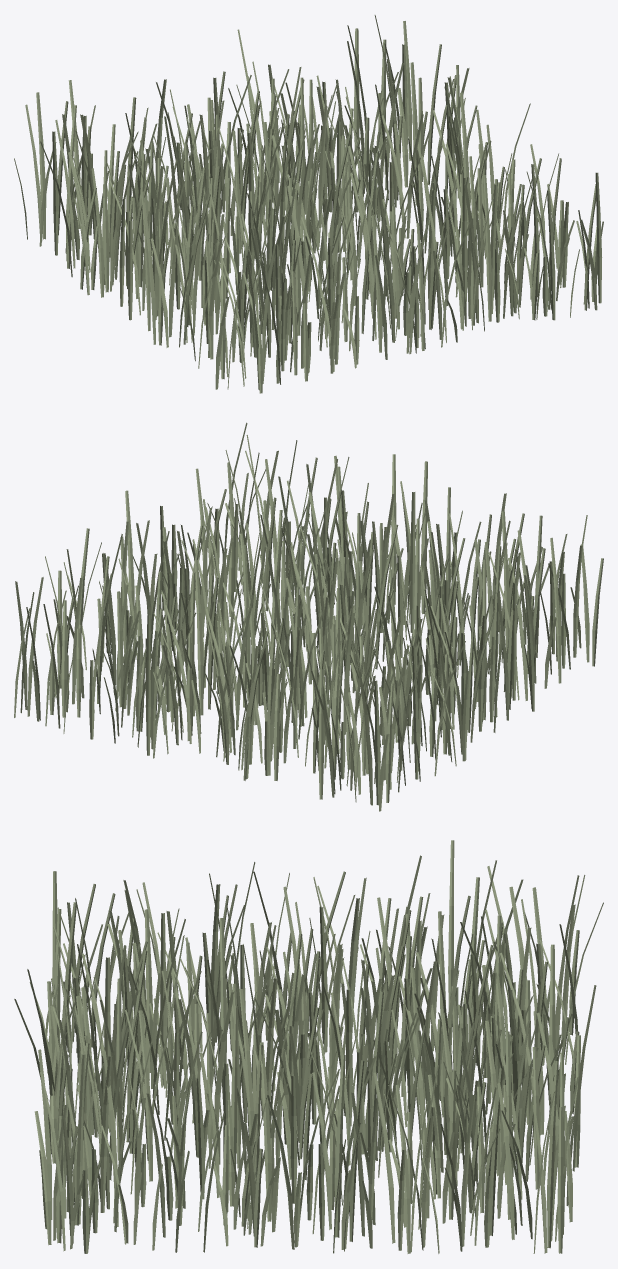
Rendered from grass.dae.
3 views of the same model, one above another, from view 1: azimuth 30°, elevation 25°; view 2: azimuth 150°, elevation 25°; view 3: azimuth 270°, elevation 25° (orthographic). The views are drawn at different scales.
Parts seen in each view (by area): view 1: Grass06; view 2: Grass06; view 3: Grass06.
Part boxes in pixels (left/top/right/bottom): Grass06: left=14, top=15, right=603, bottom=393; Grass06: left=14, top=422, right=603, bottom=811; Grass06: left=14, top=840, right=603, bottom=1253.
Size of the model in its own units: 1.36 by 1.37 by 0.4665.
